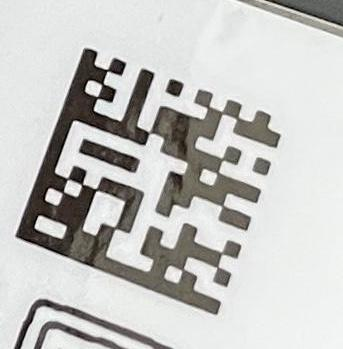datamatrix: (15, 48, 282, 316)
